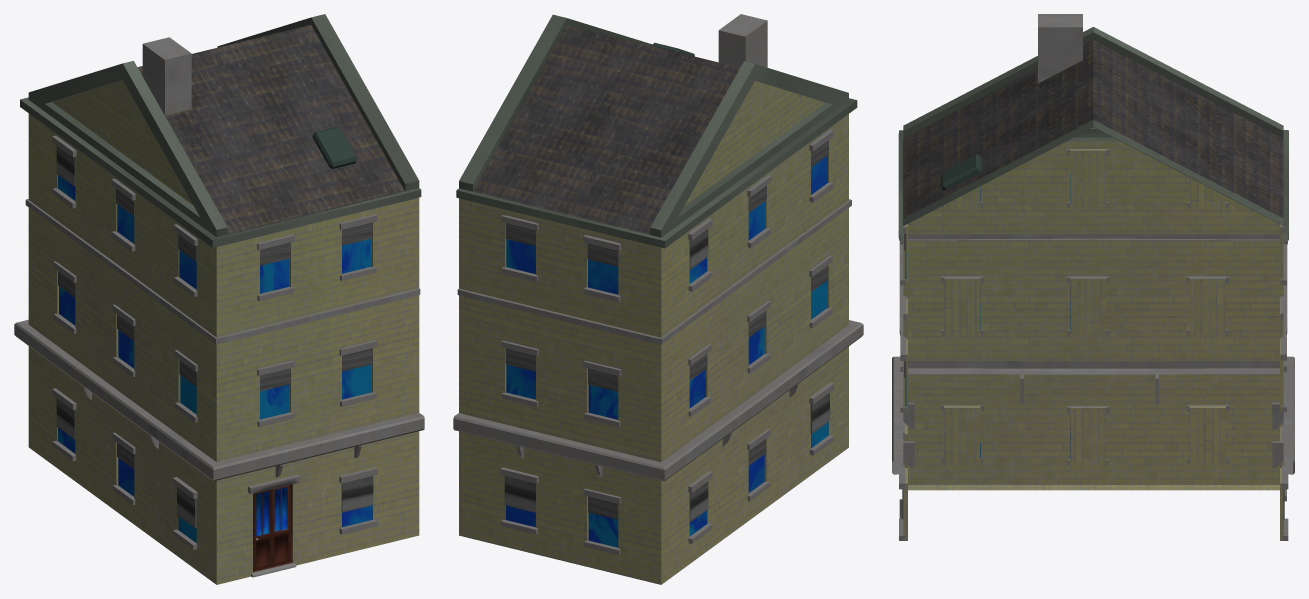
File: end_2_house.gltf
3 views of the same model, side by side, from view 1: azimuth 30°, elevation 25°; view 2: azimuth 150°, elevation 25°; view 3: azimuth 270°, elevation 25° (orthographic).
Visible parts, largest first — view 1: end_house.001; view 2: end_house.001; view 3: end_house.001.
Part boxes in pixels (x1=…): end_house.001: x1=14, y1=14, x2=424, y2=584; end_house.001: x1=453, y1=14, x2=863, y2=584; end_house.001: x1=892, y1=14, x2=1294, y2=540.
Size of the model in its own units: 5.4 by 11.52 by 8.8.
Materials: 1 (1 with a texture image).
